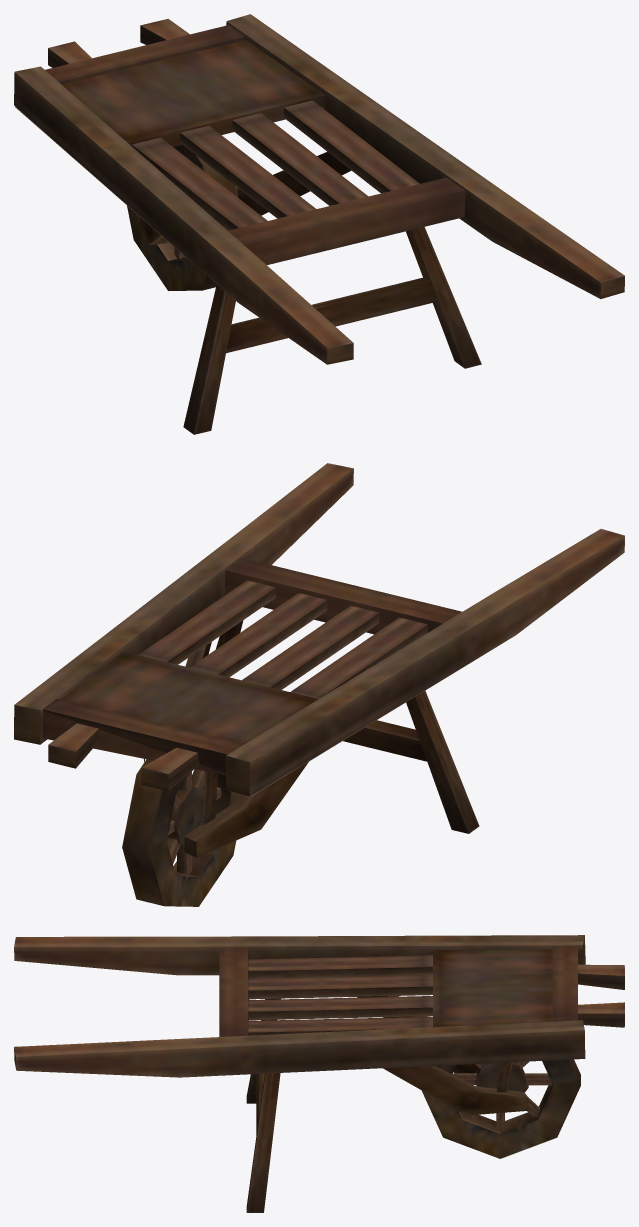
Rendered from ZW_dtc.FBX.
3 renders of one model, top to bottom at view 1: azimuth 30°, elevation 25°; view 2: azimuth 150°, elevation 25°; view 3: azimuth 270°, elevation 25°, orthographic. The views are drawn at different scales.
Parts seen in each view (by area): view 1: ZW_dtc; view 2: ZW_dtc; view 3: ZW_dtc.
Part boxes in pixels (x1,y1,x2,y2): ZW_dtc: [14, 14, 624, 434]; ZW_dtc: [14, 463, 624, 906]; ZW_dtc: [14, 935, 624, 1212].
Size of the model in its own units: 109 by 72.47 by 234.
